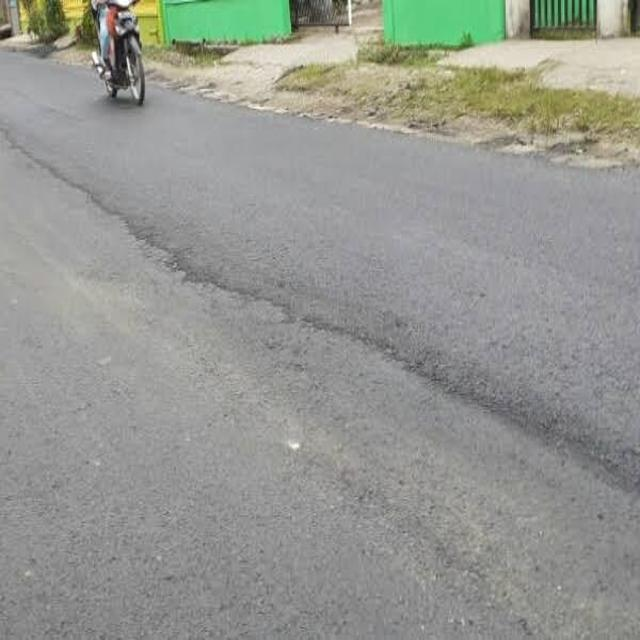Sambungan: (0, 127, 640, 640)
